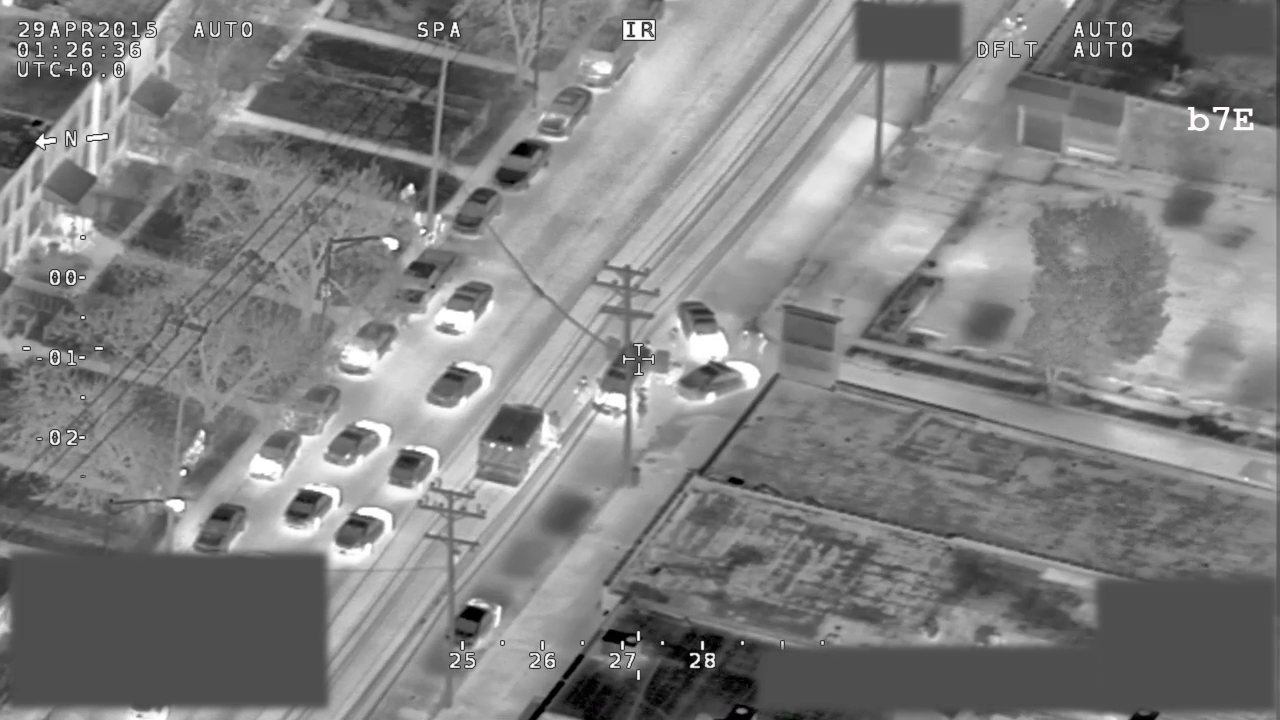vehicle: (471, 400, 559, 484), (588, 332, 673, 415), (574, 17, 643, 91), (388, 248, 459, 314), (675, 357, 761, 403), (330, 503, 396, 560), (434, 279, 494, 339), (324, 417, 393, 469), (677, 297, 731, 363), (492, 137, 552, 195), (534, 86, 596, 142), (279, 478, 343, 530), (336, 323, 400, 375), (448, 185, 506, 240), (424, 361, 493, 407), (191, 502, 246, 557), (246, 427, 303, 480), (447, 596, 505, 647), (288, 383, 339, 435), (389, 443, 441, 492)
